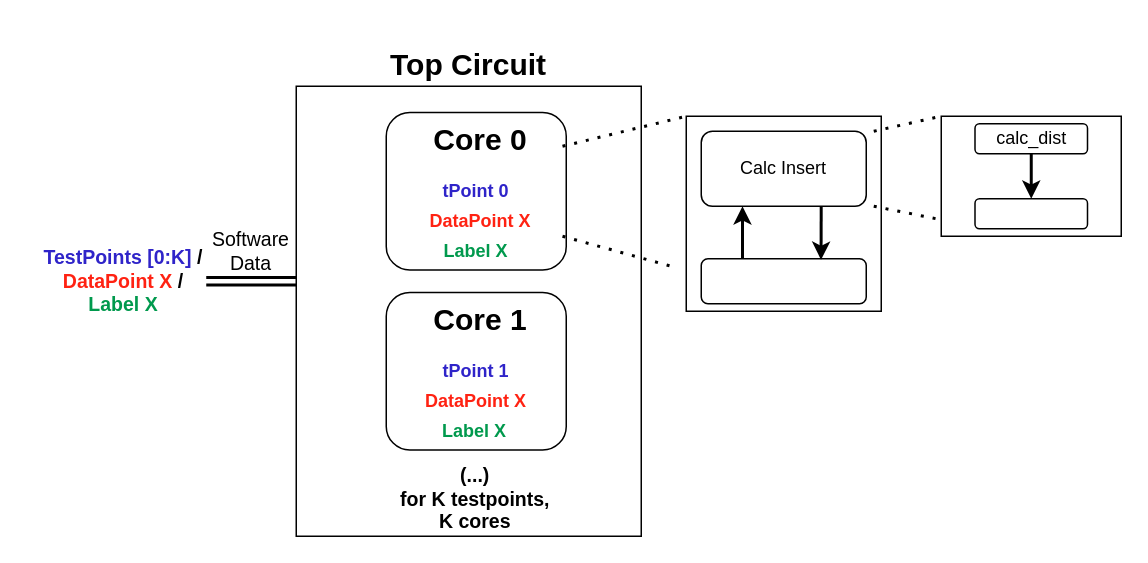
The diagram is 1148 pixels wide and 563 high, and some of its shapes have lost their labels. Here are the shapes that lost their labels. From the top down, the box of each, then its label:
(974, 197, 1088, 229): Insert
(700, 257, 866, 304): Control Unit
